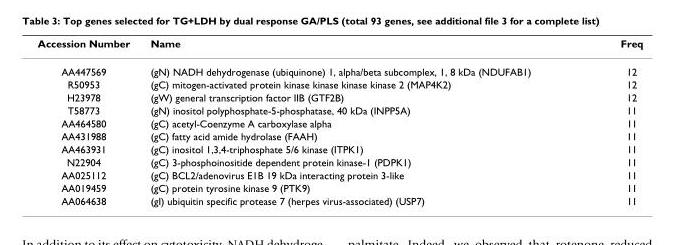table: (36, 36, 642, 206)
table column: (139, 36, 575, 206), (36, 36, 139, 206), (575, 36, 642, 206)
table column header: (36, 36, 642, 57)
table row: (36, 36, 642, 57), (36, 57, 642, 77), (36, 77, 642, 90), (36, 90, 642, 103), (36, 103, 642, 116), (36, 116, 642, 129), (36, 129, 642, 142), (36, 142, 642, 155), (36, 155, 642, 168), (36, 168, 642, 181), (36, 181, 642, 194), (36, 194, 642, 206)
